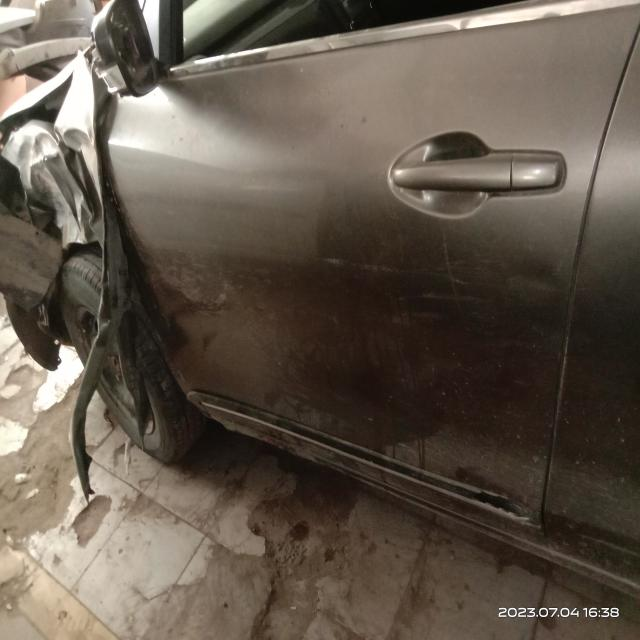damage: (0, 68, 127, 397), (83, 2, 159, 99)
